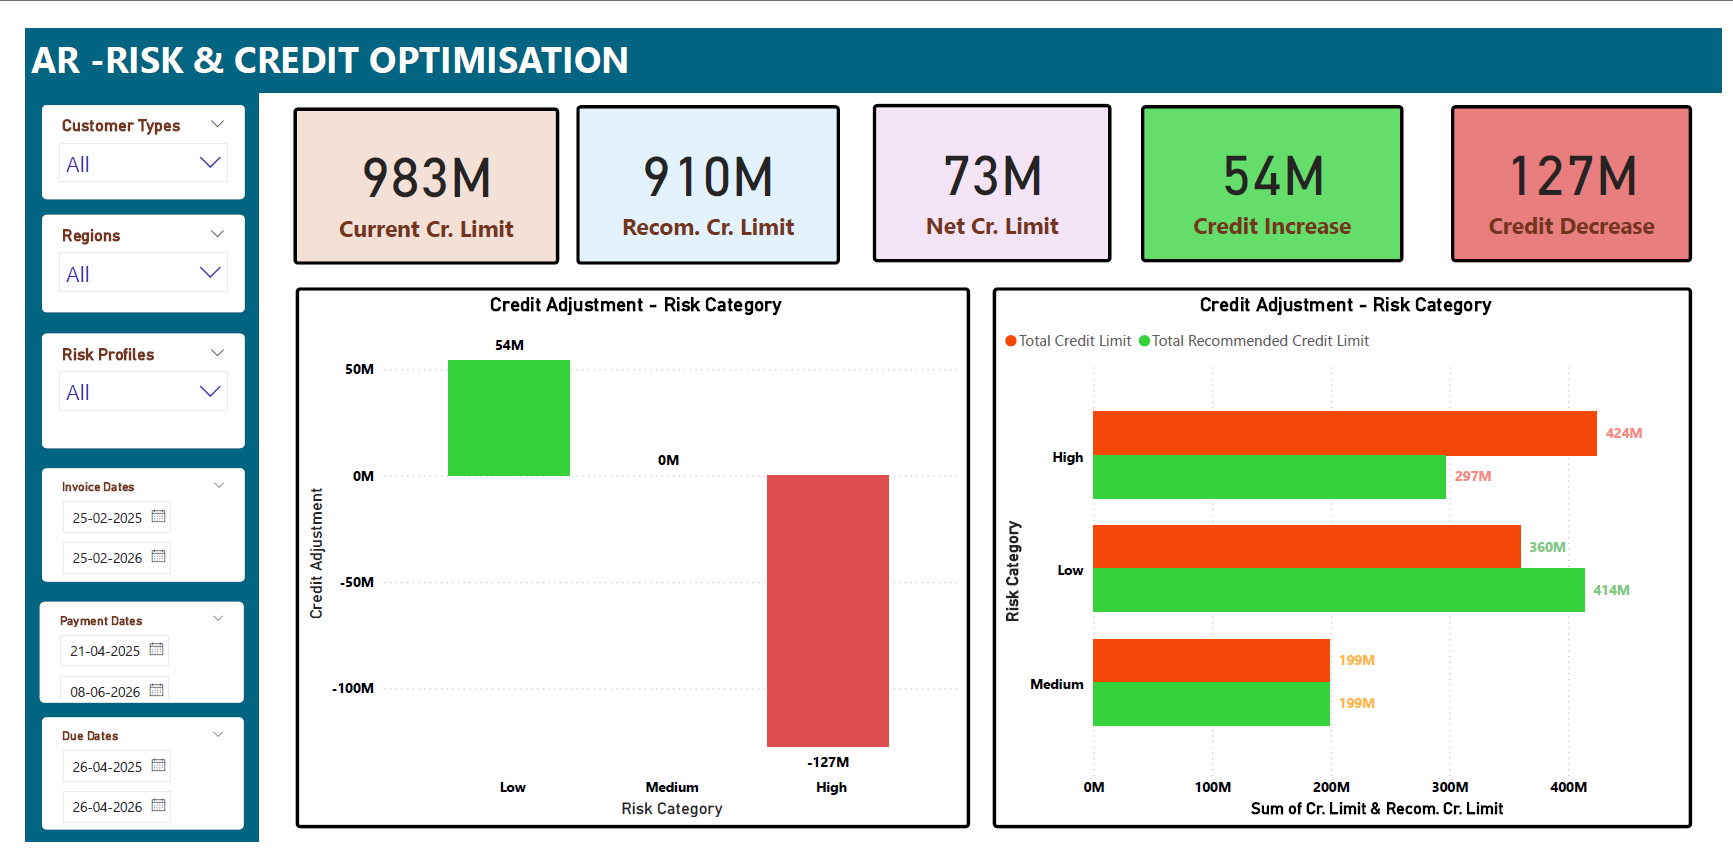

This screenshot's page, from the dashboard's own definition file:
{"tool":"powerbi","page":{"name":"Credit Optimization (1)","canvas":[1500,720],"ordinal":3},"visuals":[{"type":"textbox","box":[0,0,1499.4,56.7],"z":0},{"type":"textbox","box":[0,56.7,205.6,662.3],"z":1000},{"type":"slicer","fields":{"Values":["ar_risk_system customers.customer_type"]},"box":[14.6,68,179.7,82.6],"z":2000},{"type":"slicer","fields":{"Values":["ar_risk_system customers.region"]},"box":[14.6,165.2,179.7,85.8],"z":3000},{"type":"slicer","fields":{"Values":["ar_risk_system customers.risk_profile"]},"box":[14.6,270.4,179.7,100.4],"z":4000},{"type":"slicer","fields":{"Values":["ar_risk_system invoices.invoice_date"]},"box":[14.6,388.6,179.7,100.4],"z":5000},{"type":"slicer","fields":{"Values":["ar_risk_system payments.payment_date"]},"box":[13,506.8,179.7,89.1],"z":6000},{"type":"slicer","fields":{"Values":["ar_risk_system invoices.due_date"]},"box":[14.6,608.8,178.1,98.8],"z":7000},{"type":"card","fields":{"Values":["Sum(ar_risk_system customer_risk_output.credit_limit)"]},"box":[236.8,70.3,235,138.8],"z":8000},{"type":"card","fields":{"Values":["Sum(ar_risk_system customer_risk_output.recommended_credit_limit)"]},"box":[486.6,68.5,233.1,140.6],"z":9000},{"type":"card","fields":{"Values":["ar_risk_system customer_risk_output.Net Cr. Limit"]},"box":[749.4,66.6,210.9,140.6],"z":10000},{"type":"card","fields":{"Values":["ar_risk_system customer_risk_output.Credit Increase"]},"box":[986.2,68.5,231.3,138.8],"z":11000},{"type":"card","fields":{"Values":["ar_risk_system customer_risk_output.Credit Decrease"]},"box":[1260.1,68.5,212.8,138.8],"z":12000},{"type":"clusteredColumnChart","title":"Credit Adjustment -  Risk Category","fields":{"Category":["ar_risk_system customer_risk_output.risk_category"],"Y":["ar_risk_system customer_risk_output.Credit Adjustment"]},"box":[238.7,229.4,595.8,477.4],"z":13000},{"type":"clusteredBarChart","title":"Credit Adjustment -  Risk Category","fields":{"Category":["ar_risk_system customer_risk_output.risk_category"],"Y":["ar_risk_system customer_risk_output.Total Credit Limit","ar_risk_system customer_risk_output.Total Recommended Credit Limit"]},"box":[854.9,229.4,618,477.4],"z":14000}]}

Visuals, with their boxes on the page's 1500x720 design canvas (x1, y1, x2, y2). These are canvas units, not pixel positions in the 1733x866 screenshot, which may show the page scaled, cropped or inside an application window:
textbox: 0/0/1499/57
textbox: 0/57/206/719
slicer - ar_risk_system customers.customer_type: 15/68/194/151
slicer - ar_risk_system customers.region: 15/165/194/251
slicer - ar_risk_system customers.risk_profile: 15/270/194/371
slicer - ar_risk_system invoices.invoice_date: 15/389/194/489
slicer - ar_risk_system payments.payment_date: 13/507/193/596
slicer - ar_risk_system invoices.due_date: 15/609/193/708
card - Sum(ar_risk_system customer_risk_output.credit_limit): 237/70/472/209
card - Sum(ar_risk_system customer_risk_output.recommended_credit_limit): 487/68/720/209
card - ar_risk_system customer_risk_output.Net Cr. Limit: 749/67/960/207
card - ar_risk_system customer_risk_output.Credit Increase: 986/68/1218/207
card - ar_risk_system customer_risk_output.Credit Decrease: 1260/68/1473/207
"Credit Adjustment -  Risk Category" clusteredColumnChart: 239/229/834/707
"Credit Adjustment -  Risk Category" clusteredBarChart: 855/229/1473/707
